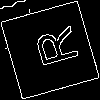R: (25, 24, 80, 72)
